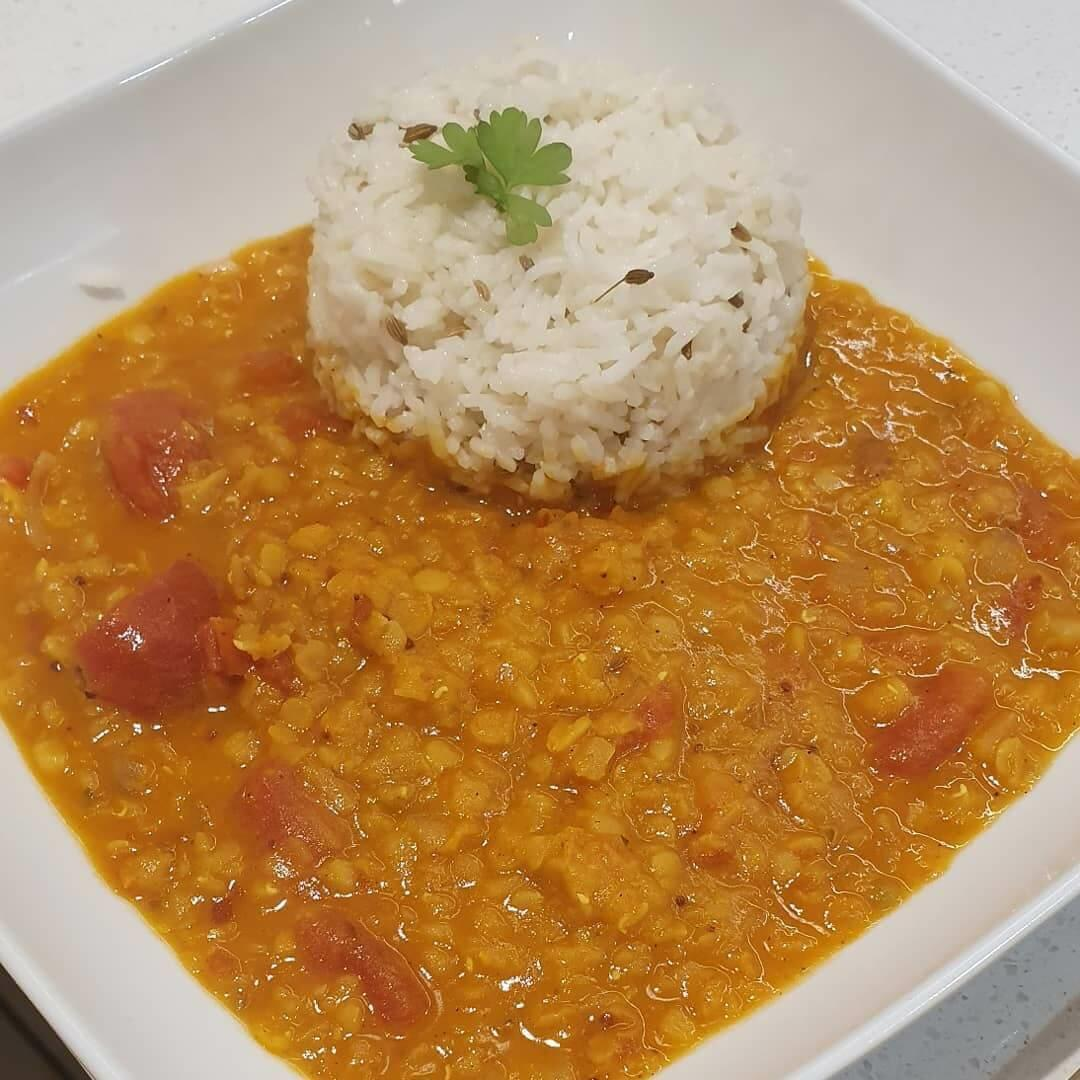Dal: (0, 214, 1080, 1080)
WhiteRice: (308, 52, 810, 507)
